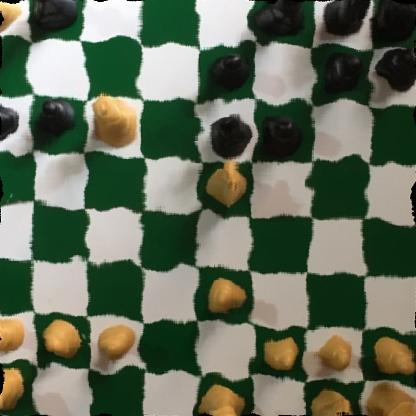black-bishop: (205, 107, 251, 165), (254, 0, 306, 44)
black-king: (20, 0, 81, 36)
black-knight: (321, 0, 372, 45)
black-pawn: (315, 51, 367, 102), (253, 111, 302, 161), (207, 46, 251, 98), (376, 45, 416, 96), (38, 96, 80, 140), (0, 99, 19, 141)
black-rook: (372, 0, 416, 46)
white-bishop: (0, 0, 23, 36)
white-king: (198, 381, 246, 416)
white-knight: (208, 148, 249, 206), (308, 388, 358, 416)
white-pawn: (35, 319, 84, 363), (259, 327, 303, 375), (367, 337, 416, 380), (202, 274, 246, 320), (314, 336, 360, 380), (95, 323, 139, 365), (0, 308, 27, 353)
white-queen: (90, 93, 138, 150)
white-rook: (362, 380, 416, 416), (0, 361, 26, 416)
